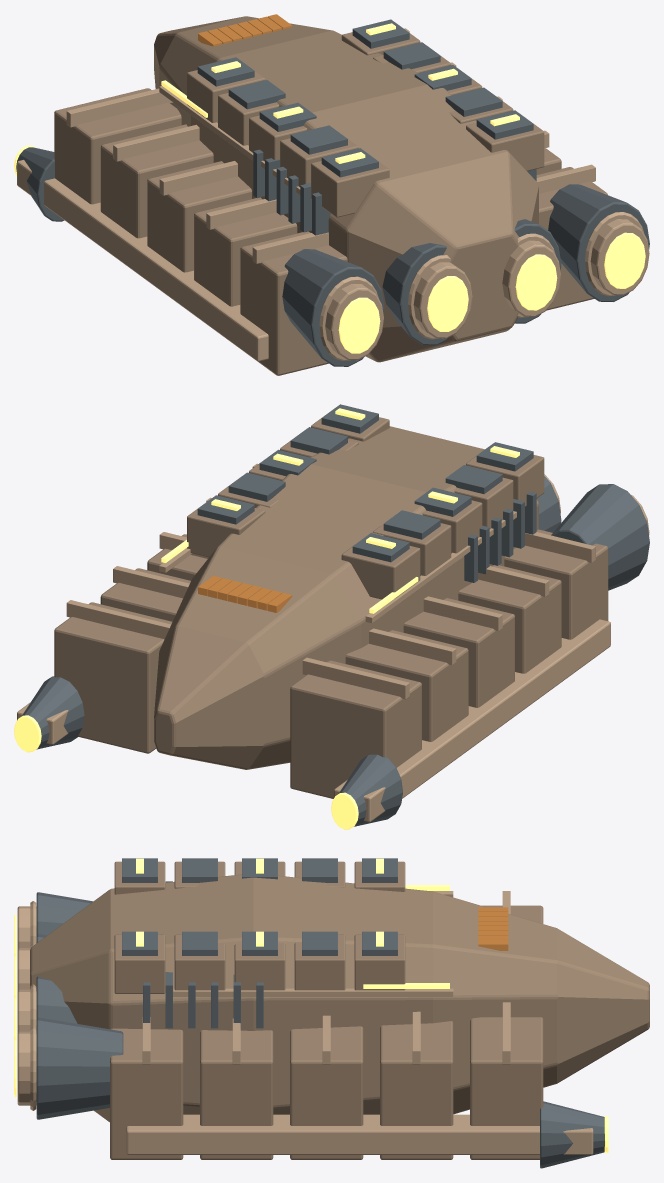
File: miner_anvil.glb
The picture shows the model from 3 angles, top to bottom: view 1: azimuth 30°, elevation 25°; view 2: azimuth 150°, elevation 25°; view 3: azimuth 270°, elevation 25°; orthographic projection. The views are drawn at different scales.
Visible parts, largest first — view 1: deepforge_hull, deepforge_dark, deepforge_trim, deepforge_glow, deepforge_glass; view 2: deepforge_hull, deepforge_dark, deepforge_trim, deepforge_glow, deepforge_glass; view 3: deepforge_hull, deepforge_dark, deepforge_trim, deepforge_glow, deepforge_glass.
Part boxes in pixels (x1,y1,x2,y2): deepforge_hull: (54, 16, 607, 375); deepforge_dark: (16, 19, 649, 366); deepforge_trim: (17, 28, 649, 361); deepforge_glow: (14, 23, 645, 353); deepforge_glass: (198, 14, 292, 46); deepforge_hull: (54, 417, 608, 798); deepforge_dark: (21, 404, 649, 826); deepforge_trim: (17, 463, 649, 822); deepforge_glow: (14, 408, 519, 829); deepforge_glass: (198, 575, 292, 612); deepforge_hull: (30, 861, 649, 1159); deepforge_dark: (36, 858, 604, 1168); deepforge_trim: (17, 891, 593, 1154); deepforge_glow: (14, 858, 608, 1153); deepforge_glass: (478, 907, 508, 950).
Size of the model in its own units: 35.94 by 20 by 56.
